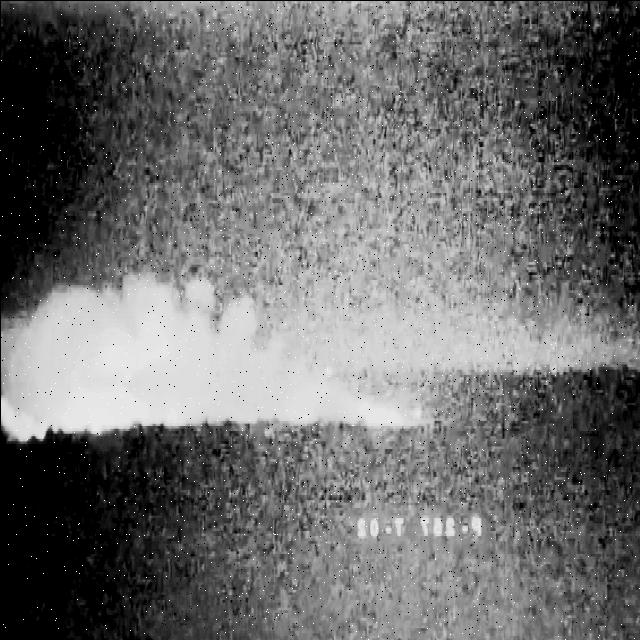asap: (1, 250, 425, 470)
